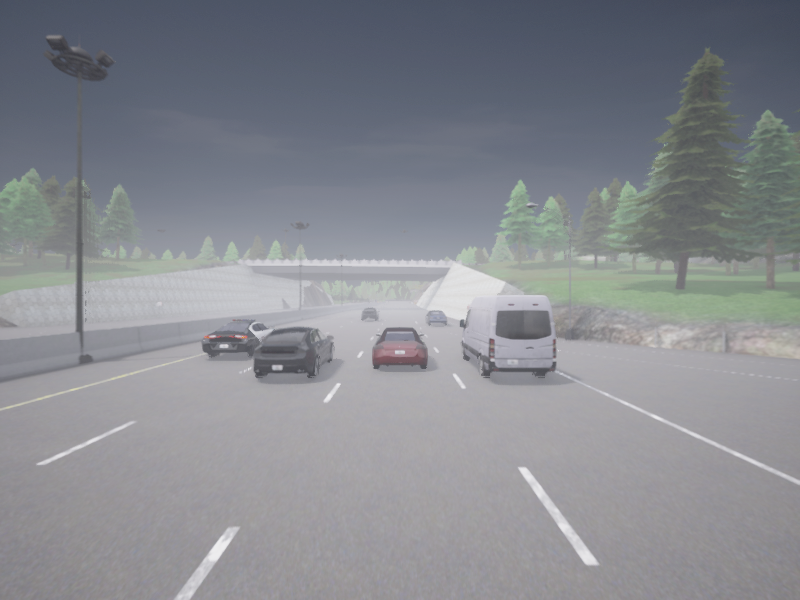vehicle: (460, 295, 556, 377), (253, 326, 333, 377), (202, 319, 274, 356), (372, 327, 427, 368), (425, 310, 446, 324), (362, 308, 379, 320)
